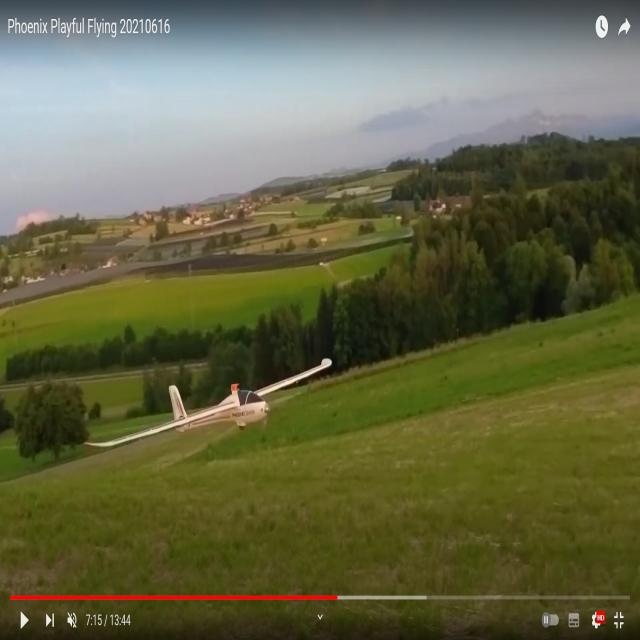iha: (87, 390, 336, 426)
